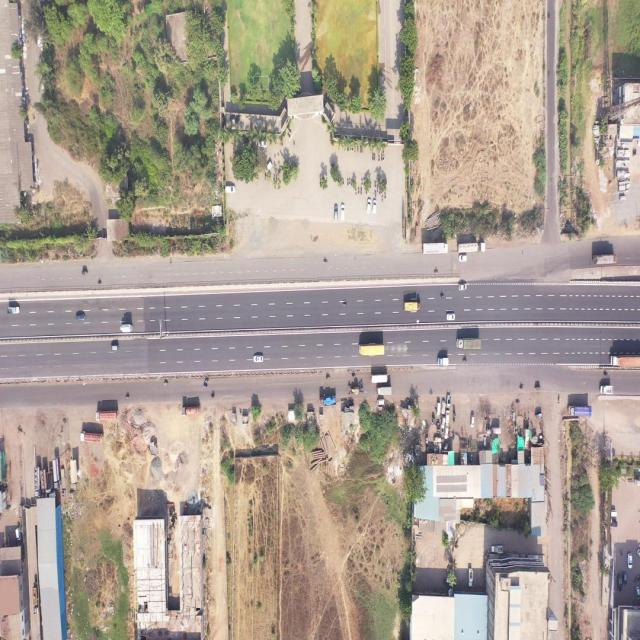3W: (534, 411, 543, 420), (81, 269, 88, 277), (534, 385, 541, 391)
Bus: (370, 371, 389, 384)
Cars: (257, 139, 268, 151), (340, 200, 346, 222), (333, 203, 339, 223), (627, 553, 634, 570), (253, 354, 264, 364), (457, 283, 468, 293), (633, 585, 640, 600), (225, 185, 236, 194), (109, 342, 120, 351), (75, 314, 86, 323), (265, 159, 272, 173), (372, 198, 378, 214), (366, 197, 371, 215), (617, 574, 622, 592), (470, 413, 475, 428), (458, 255, 468, 262), (442, 399, 446, 415), (446, 409, 450, 424), (437, 402, 441, 416), (441, 416, 445, 429)
LCV: (490, 542, 504, 554), (467, 565, 474, 588), (7, 305, 20, 315), (445, 312, 456, 321)
M2W: (462, 357, 469, 364), (163, 378, 169, 386), (519, 384, 525, 391), (603, 371, 609, 378), (439, 293, 445, 300), (351, 372, 357, 379), (210, 392, 216, 399), (126, 394, 132, 400), (97, 280, 103, 286), (323, 258, 328, 265), (342, 301, 347, 308), (381, 193, 384, 203), (326, 374, 331, 380), (204, 378, 210, 383), (434, 268, 438, 275), (361, 178, 364, 187), (374, 180, 377, 189), (203, 384, 208, 389), (356, 146, 359, 153), (374, 151, 376, 161), (347, 177, 349, 186), (358, 186, 360, 195), (273, 175, 275, 184), (351, 178, 353, 187), (381, 153, 383, 161), (342, 178, 344, 186), (379, 154, 381, 162), (352, 145, 354, 152), (355, 188, 357, 195), (360, 188, 362, 195)
MAV: (608, 351, 640, 366), (358, 341, 386, 357), (455, 336, 482, 351), (457, 241, 486, 253)
Truck: (593, 251, 618, 267), (80, 429, 105, 444), (567, 404, 593, 417), (422, 242, 448, 255), (94, 410, 119, 422), (181, 404, 201, 417), (403, 300, 422, 313), (319, 395, 337, 408), (600, 382, 615, 396), (375, 386, 394, 396), (120, 323, 134, 334), (437, 356, 450, 366)
